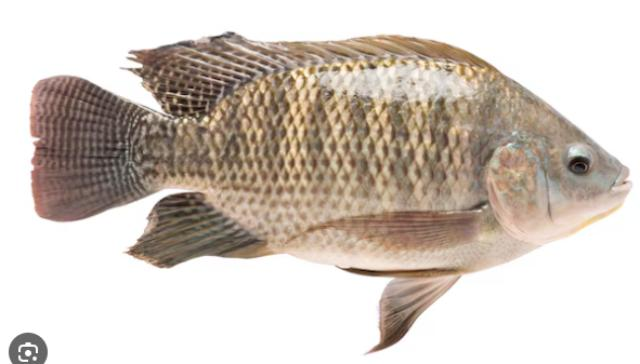Mulut: (580, 128, 640, 224)
Sirip Anal: (123, 184, 271, 287)
Sirip Dada: (278, 189, 502, 264)
Sirip Ekor: (21, 60, 146, 226)
Sirip Perut: (328, 246, 474, 362)
Sirip Punggung: (114, 22, 506, 126)
